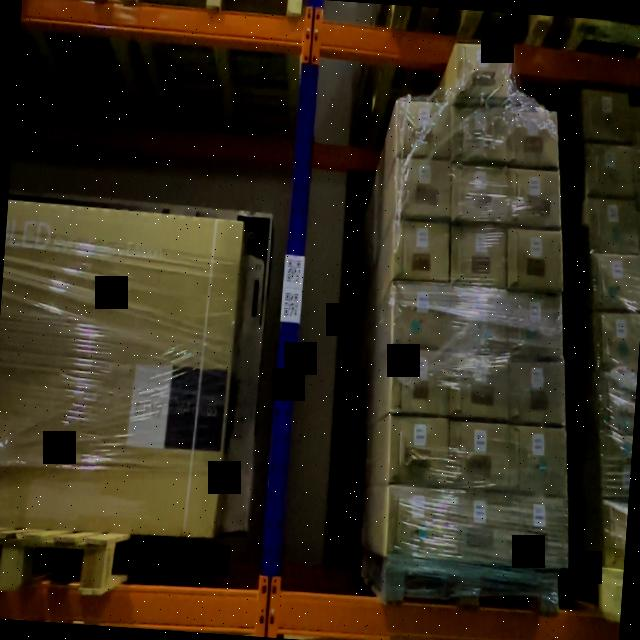box: (0, 209, 249, 540), (388, 488, 453, 558), (448, 421, 512, 489), (387, 416, 448, 486), (508, 496, 568, 566), (448, 285, 508, 353), (389, 280, 448, 348), (390, 350, 452, 414), (511, 427, 567, 495), (453, 492, 508, 560), (451, 356, 509, 419), (506, 227, 563, 291), (509, 360, 566, 424), (509, 292, 563, 358), (395, 218, 451, 281), (456, 41, 511, 103), (450, 226, 506, 285), (398, 156, 451, 217), (451, 166, 507, 223), (398, 100, 452, 158), (508, 169, 560, 227), (453, 105, 506, 161), (590, 198, 640, 254), (597, 309, 640, 369), (509, 110, 556, 164), (594, 256, 640, 310), (586, 146, 632, 198), (586, 91, 630, 142), (602, 371, 637, 434), (601, 432, 632, 498), (604, 504, 628, 566), (630, 104, 640, 148), (632, 153, 640, 204), (636, 210, 640, 254)
